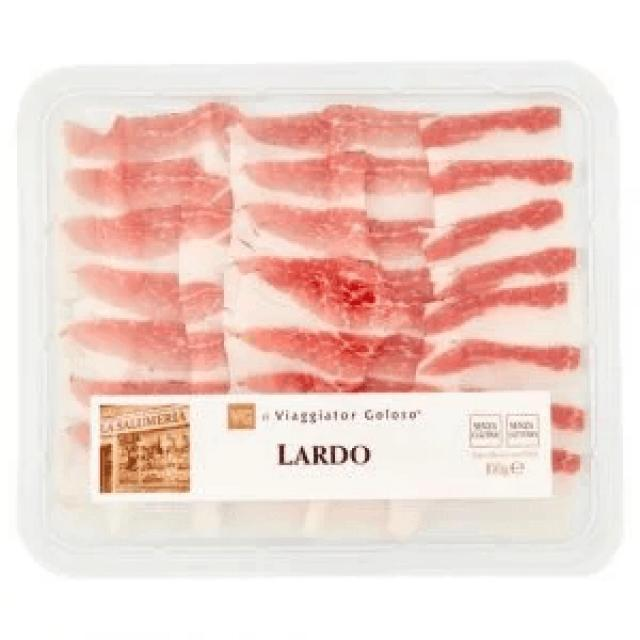Ham: (17, 62, 625, 578)
